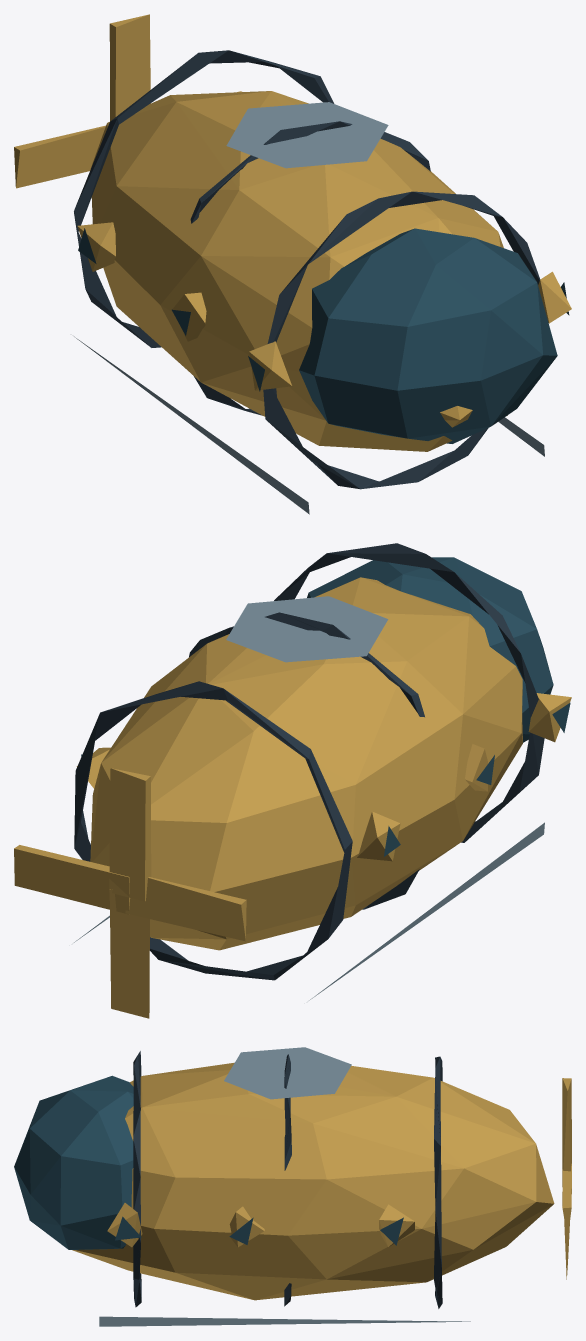
File: submarines-research-sub.lod2.glb
3 renders of one model, top to bottom at view 1: azimuth 30°, elevation 25°; view 2: azimuth 150°, elevation 25°; view 3: azimuth 270°, elevation 25°, orthographic. The views are drawn at different scales.
Parts seen in each view (by area): view 1: submarines-research-sub__body, submarines-research-sub__hatch, submarines-research-sub__propeller; view 2: submarines-research-sub__body, submarines-research-sub__propeller, submarines-research-sub__hatch; view 3: submarines-research-sub__body, submarines-research-sub__hatch, submarines-research-sub__propeller.
Part boxes in pixels (box(x1,y1,x2,y2)): submarines-research-sub__body: box(74, 50, 571, 514); submarines-research-sub__hatch: box(226, 102, 388, 168); submarines-research-sub__propeller: box(14, 14, 241, 188); submarines-research-sub__body: box(74, 543, 571, 1000); submarines-research-sub__propeller: box(14, 768, 246, 1018); submarines-research-sub__hatch: box(226, 596, 388, 662); submarines-research-sub__body: box(14, 1051, 554, 1326); submarines-research-sub__hatch: box(224, 1047, 351, 1099); submarines-research-sub__propeller: box(562, 1078, 571, 1279).
Bounding box in the file's own units: 2.91 × 2.68 × 5.82.
